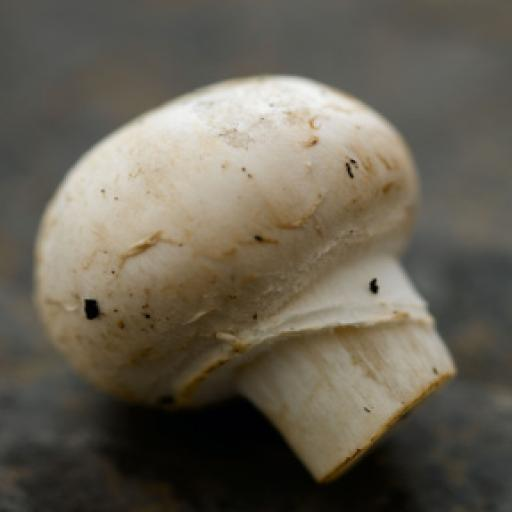Button Mushroom: (25, 70, 469, 486)
